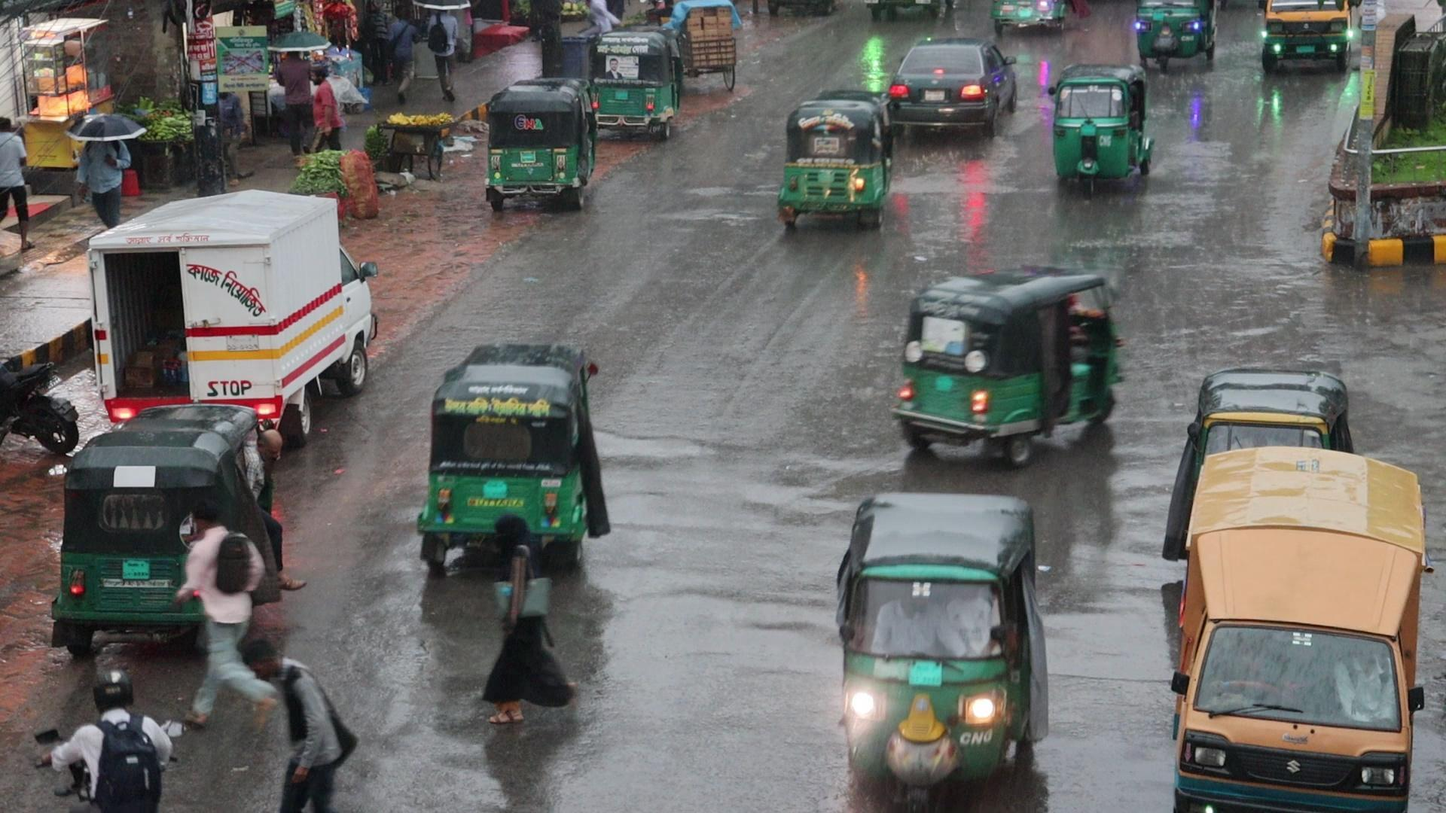Truck: (1157, 455, 1435, 813)
